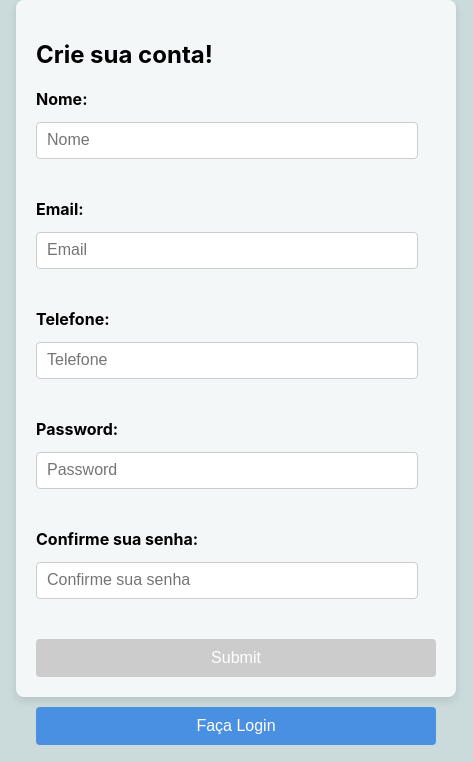
Test: SignUp › should render error when password and confirmPassword doesnt match
Step 1. Type "teste" into the field labelled "Nome:" → point(227, 140), box [36,122,418,159]
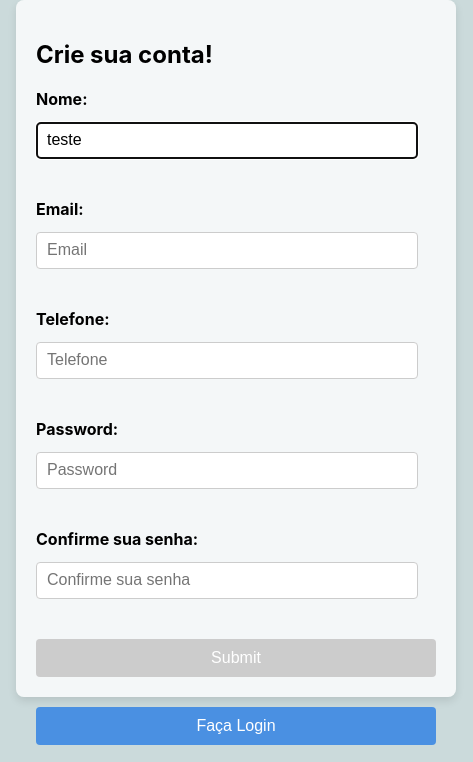
Step 2. Type "teste@teste.com" into the field labelled "Email:" → point(227, 250), box [36,232,418,269]
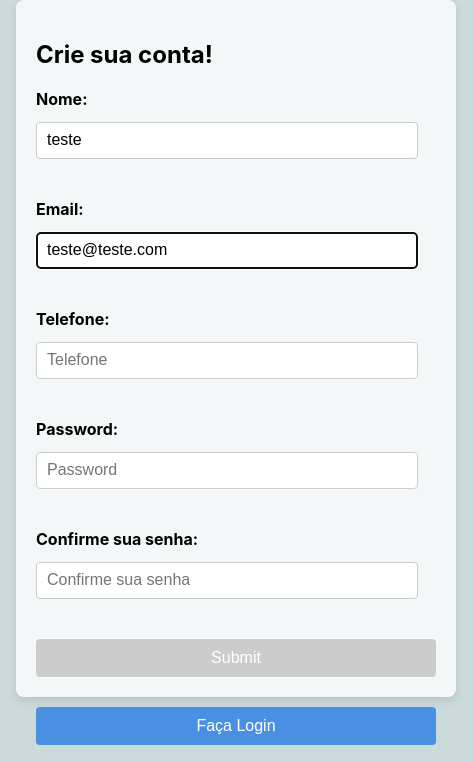
Step 3. Type "senha_teste" into the password field labelled "Password:" → point(227, 470), box [36,452,418,489]
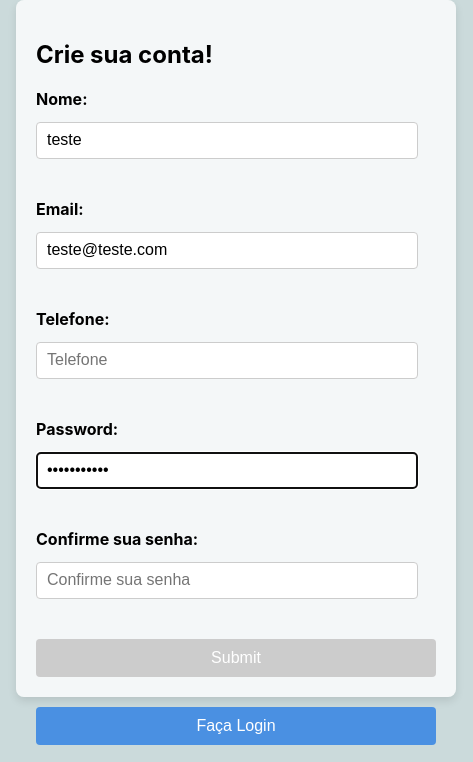
Step 4. Type "senha_errada" into the password field labelled "Confirme sua senha:" → point(227, 580), box [36,562,418,599]
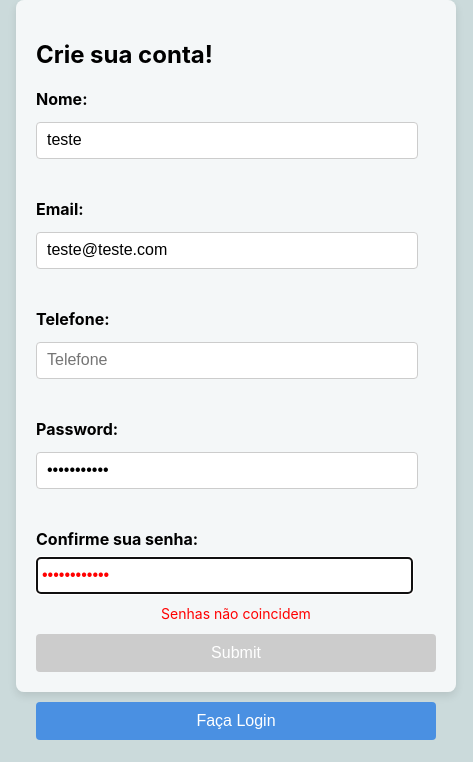
Check: the text "Senhas não coincidem" is shown, box [161,605,311,622]
